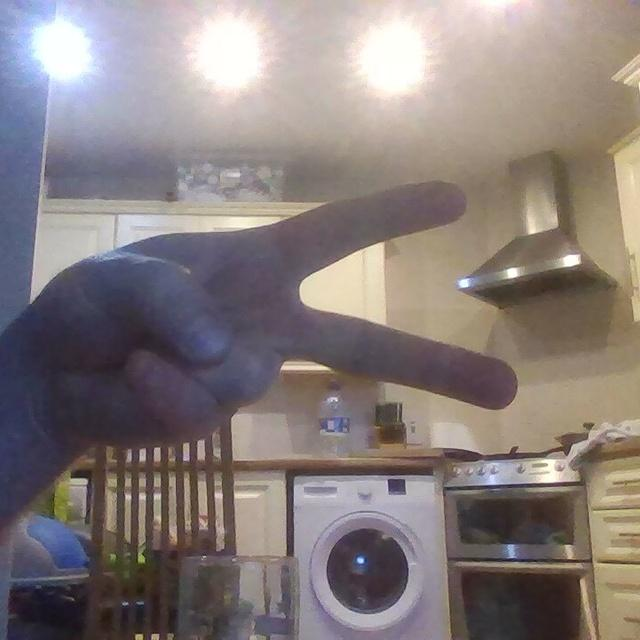scissors: (62, 178, 524, 473)
